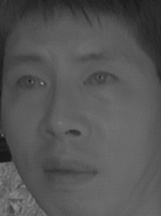eye: (9, 70, 50, 95), (82, 69, 121, 91)
mouth: (39, 151, 100, 189)
